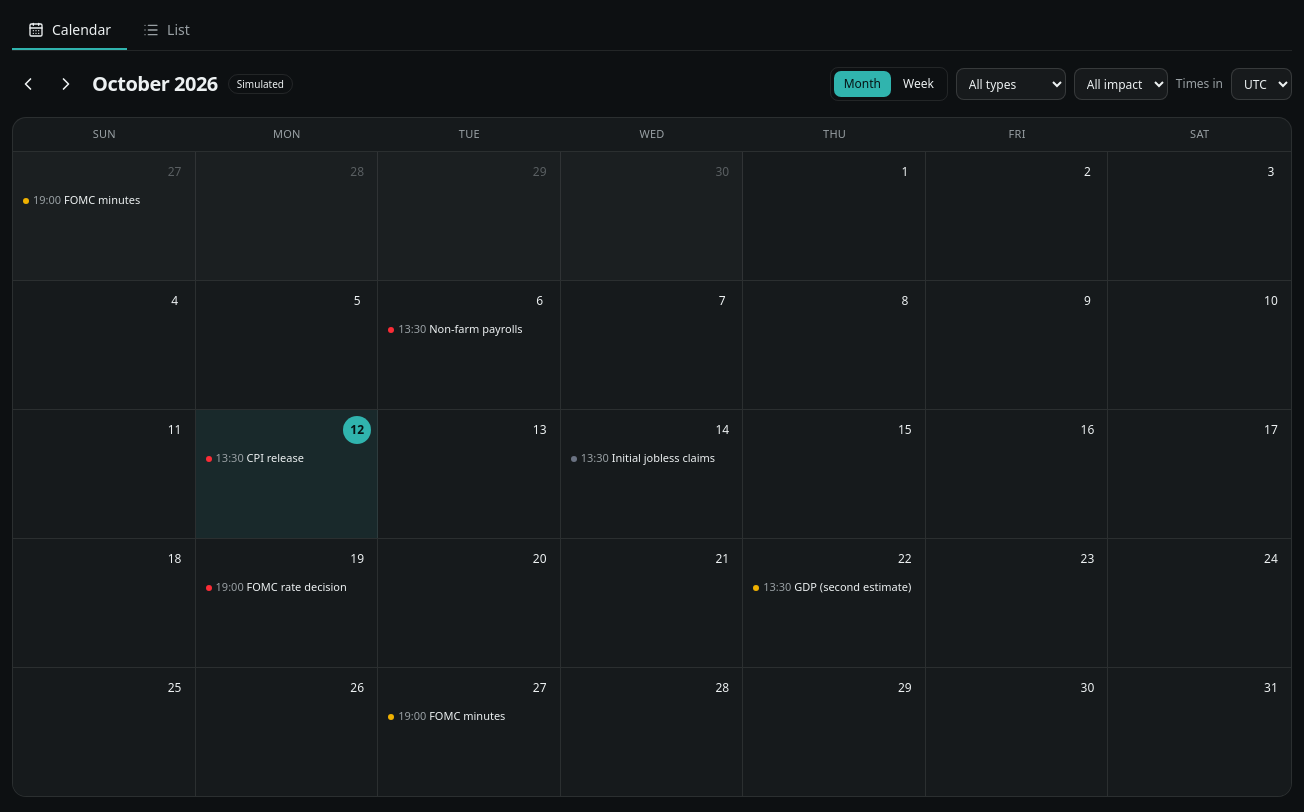
EconomicCalendar › keeps filters when the list is showing
Click the tab "List".
click(166, 31)  # box [127,12,206,50]
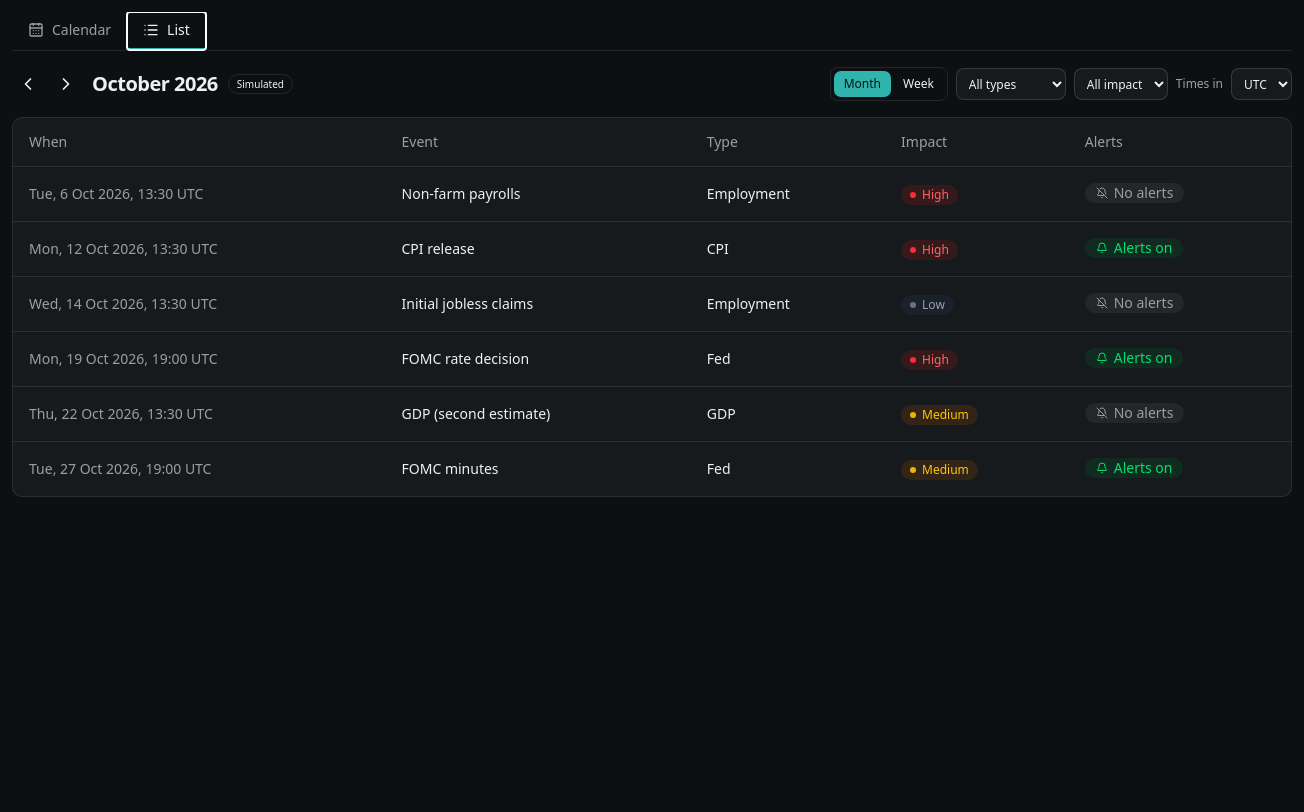
Expected: the button "CPI release" is shown, [402,238,475,258]
Select "Fed" in the dropdown named "Event type filter" at x=1011, y=84, box [956,68,1066,100]
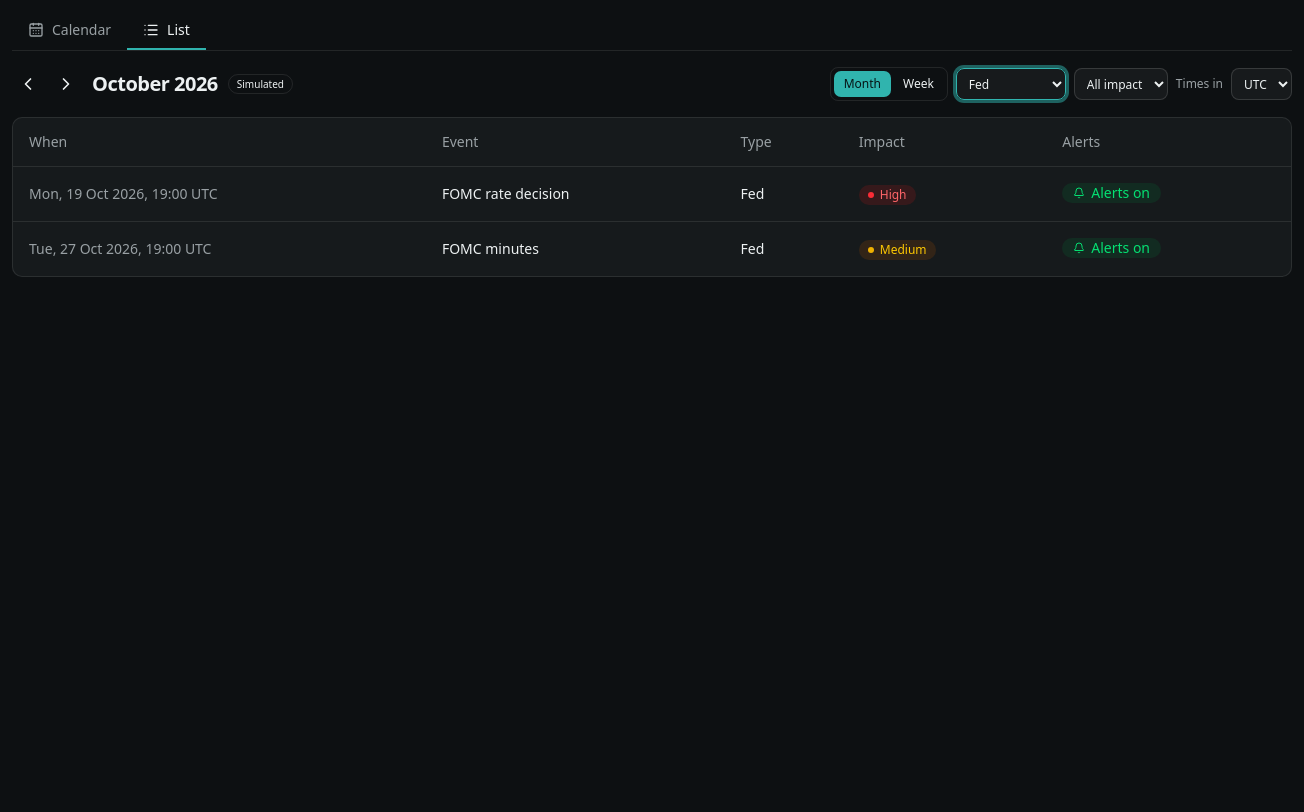
Expected: the button "FOMC rate decision" is shown, [442,184,570,204]
Result: the button "CPI release" is gone
